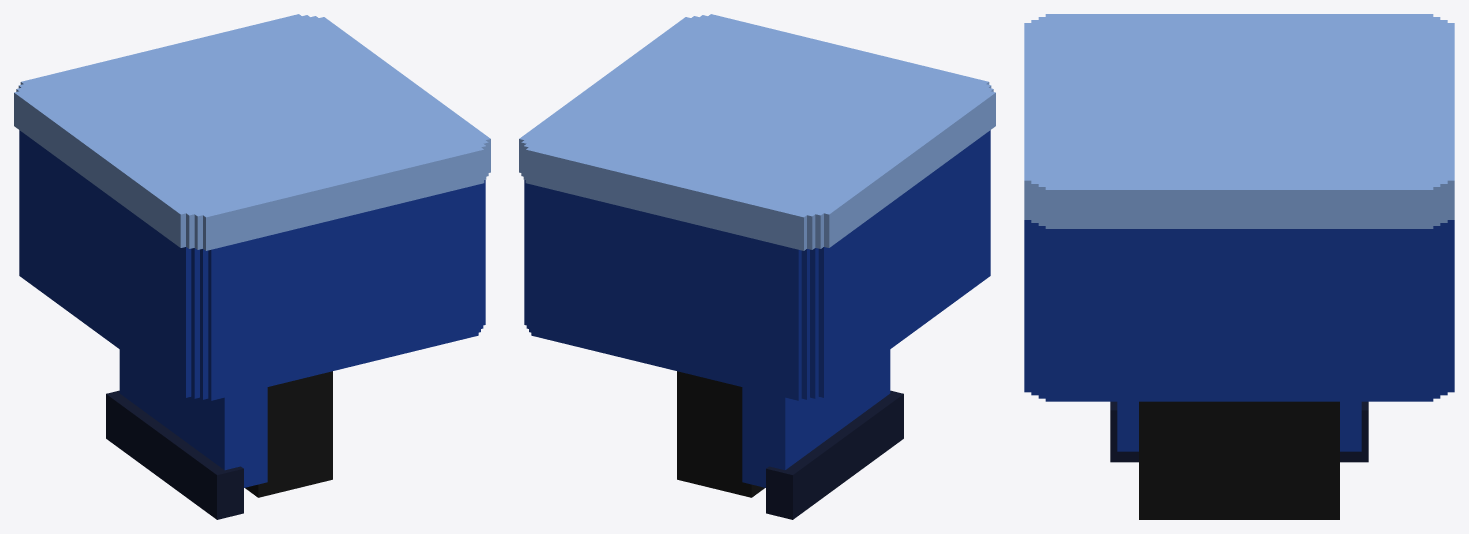
File: gloves_heavy_worn_palm.glb
3 renders of one model, left to right at view 1: azimuth 30°, elevation 25°; view 2: azimuth 150°, elevation 25°; view 3: azimuth 270°, elevation 25°, orthographic. The views are drawn at different scales.
Parts seen in each view (by area): view 1: gloves_heavy_worn_palm:compound; view 2: gloves_heavy_worn_palm:compound; view 3: gloves_heavy_worn_palm:compound.
Part boxes in pixels (box(x1,y1,x2,y2)): gloves_heavy_worn_palm:compound: box(14, 14, 490, 519); gloves_heavy_worn_palm:compound: box(519, 14, 995, 519); gloves_heavy_worn_palm:compound: box(1024, 14, 1454, 519).
Bounding box in the file's own units: 0.232 × 0.244 × 0.24.
